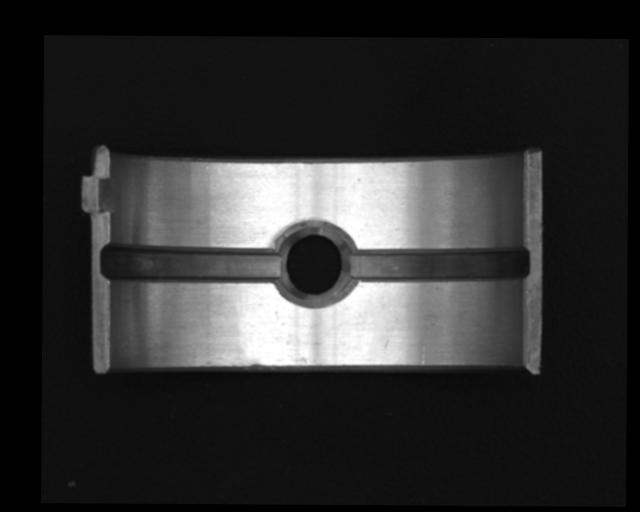gap: (342, 243, 531, 285), (100, 242, 283, 284)
hole: (275, 223, 354, 304)
nick: (419, 344, 427, 365)
